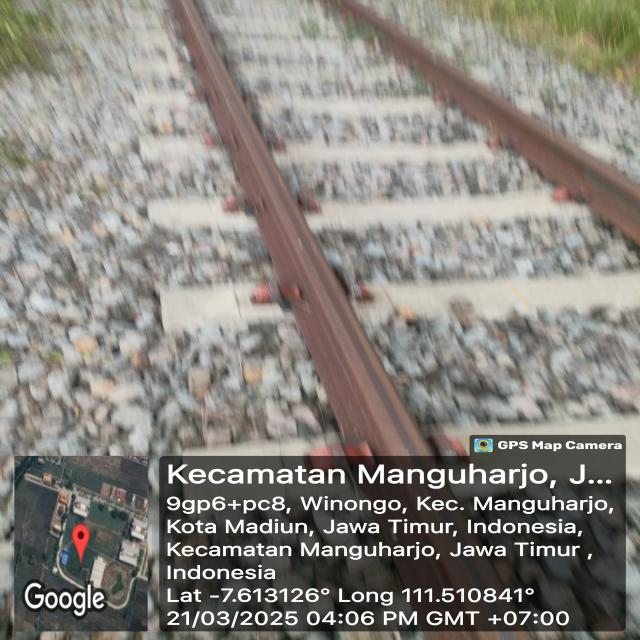rail-detection: (172, 0, 431, 455), (332, 0, 640, 245)
